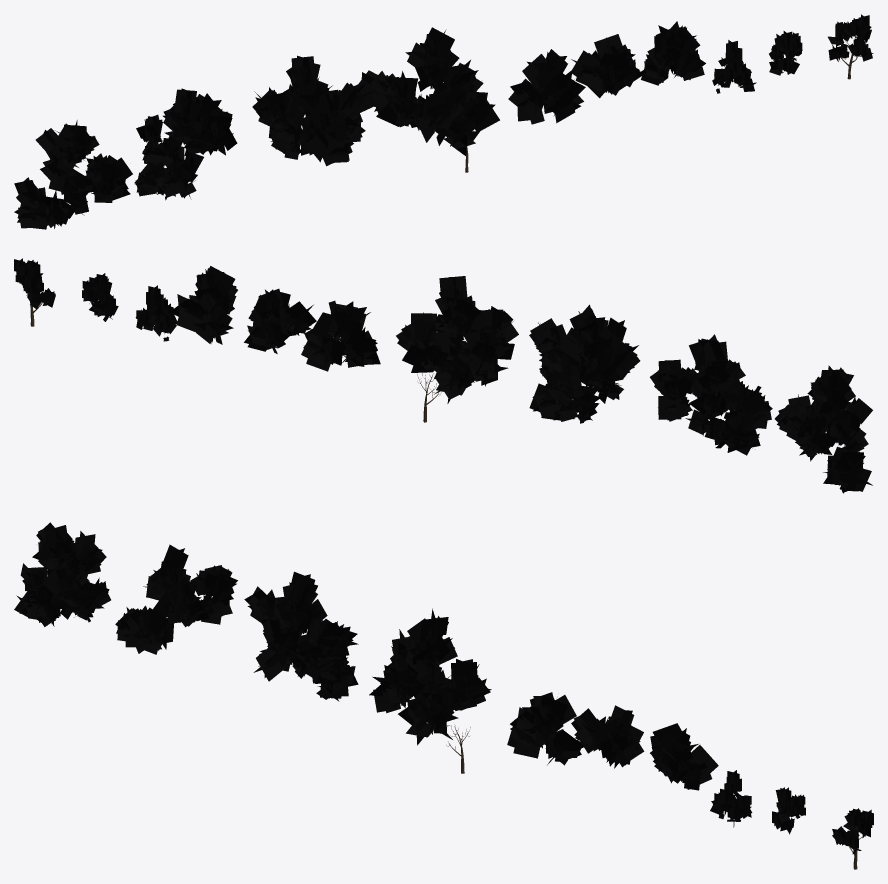
File: no_leaves_tree_one.glb
The picture shows the model from 3 angles, top to bottom: view 1: azimuth 30°, elevation 25°; view 2: azimuth 150°, elevation 25°; view 3: azimuth 330°, elevation 25°; orthographic projection. The views are drawn at different scales.
Visible parts, largest first — view 1: leaves.004_9, leaves.003_6, leaves.001_0, leaves.002_3, leaves.005_12, leaves.006_15, leaves.007_18, leaves.010_24, leaves.008_21, leaves.009_27; view 2: leaves.004_9, leaves.003_6, leaves.002_3, leaves.001_0, leaves.005_12, leaves.007_18, leaves.006_15, leaves.008_21, leaves.010_24, leaves.009_27; view 3: leaves.004_9, leaves.003_6, leaves.002_3, leaves.001_0, leaves.005_12, leaves.006_15, leaves.007_18, leaves.008_21, leaves.010_24, leaves.009_27.
Boxes of the visible parts, bbox=[...] form: leaves.004_9: bbox=[358, 27, 499, 155]; leaves.003_6: bbox=[252, 55, 376, 166]; leaves.001_0: bbox=[14, 120, 132, 229]; leaves.002_3: bbox=[134, 88, 237, 200]; leaves.005_12: bbox=[508, 49, 585, 124]; leaves.006_15: bbox=[571, 34, 644, 98]; leaves.007_18: bbox=[641, 21, 705, 85]; leaves.010_24: bbox=[828, 14, 873, 61]; leaves.008_21: bbox=[712, 40, 756, 93]; leaves.009_27: bbox=[769, 31, 802, 75]; leaves.004_9: bbox=[396, 276, 518, 403]; leaves.003_6: bbox=[529, 304, 640, 423]; leaves.002_3: bbox=[650, 334, 772, 455]; leaves.001_0: bbox=[775, 365, 872, 493]; leaves.005_12: bbox=[301, 300, 380, 371]; leaves.007_18: bbox=[169, 266, 237, 344]; leaves.006_15: bbox=[244, 288, 316, 353]; leaves.008_21: bbox=[135, 285, 177, 341]; leaves.010_24: bbox=[14, 258, 55, 309]; leaves.009_27: bbox=[82, 273, 118, 321]; leaves.004_9: bbox=[369, 608, 491, 745]; leaves.003_6: bbox=[244, 571, 358, 701]; leaves.002_3: bbox=[115, 544, 237, 654]; leaves.001_0: bbox=[14, 522, 110, 626]; leaves.005_12: bbox=[507, 692, 583, 765]; leaves.006_15: bbox=[571, 705, 644, 768]; leaves.007_18: bbox=[650, 723, 718, 790]; leaves.008_21: bbox=[710, 770, 752, 827]; leaves.010_24: bbox=[832, 808, 873, 854]; leaves.009_27: bbox=[772, 787, 805, 834].
Size of the model in its own units: 705 by 122 by 91.13.
2 materials, 2 textured.
